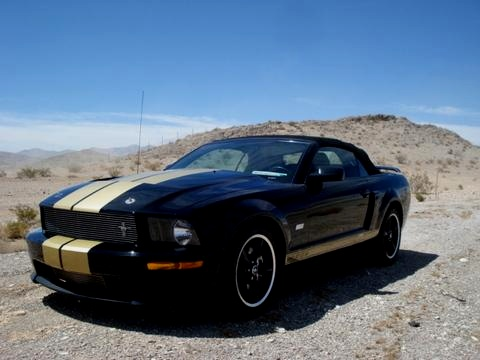car: (15, 128, 438, 327)
